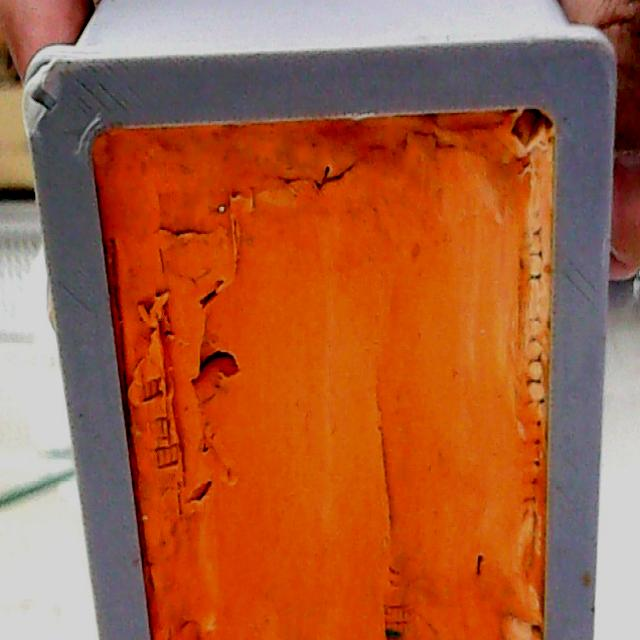block: (13, 0, 615, 637)
